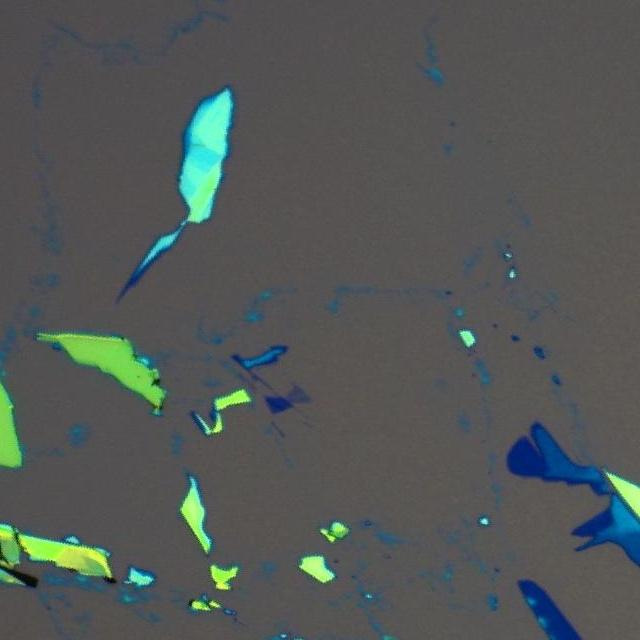monolayer-eWW4: (286, 383, 312, 406)
